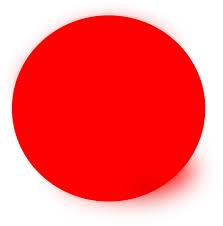red_circle: (2, 6, 218, 215)
